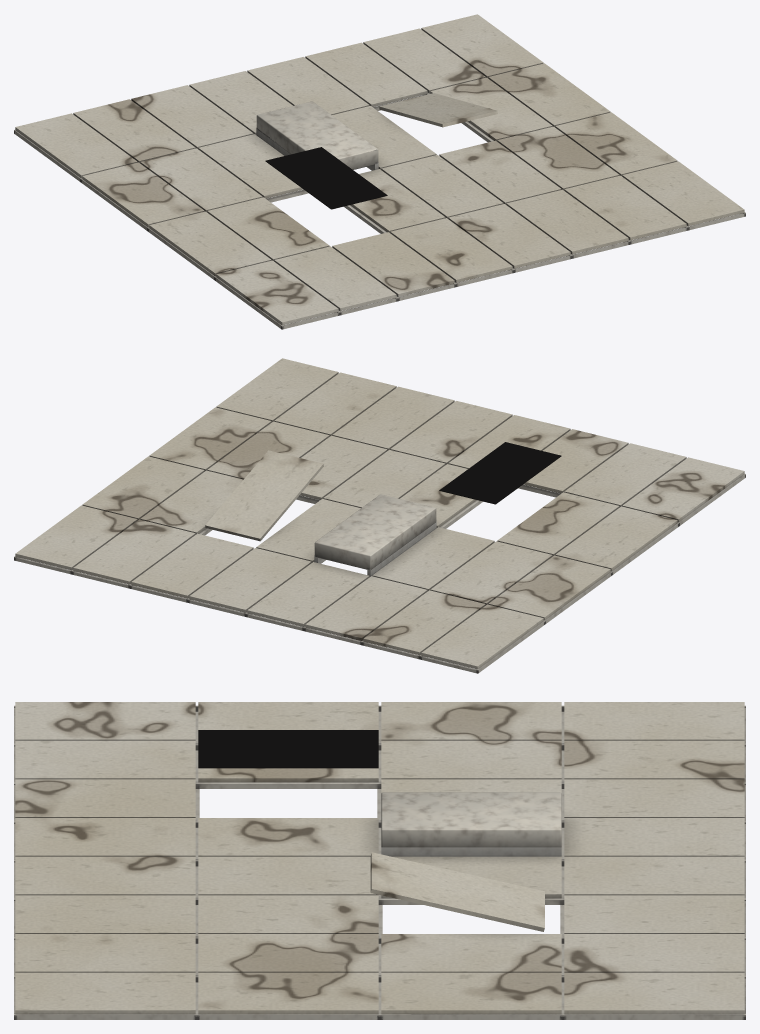
File: drop_ceiling.fbx
3 renders of one model, top to bottom at view 1: azimuth 30°, elevation 25°; view 2: azimuth 150°, elevation 25°; view 3: azimuth 270°, elevation 25°, orthographic. The views are drawn at different scales.
Visible parts, largest first — view 1: Body; view 2: Body; view 3: Body.
Part boxes in pixels (<box>): Body: <box>14,14,745,329</box>; Body: <box>14,358,745,673</box>; Body: <box>14,702,745,1019</box>.
Size of the model in its own units: 16 by 1.41 by 16.
1 material, 1 textured.
